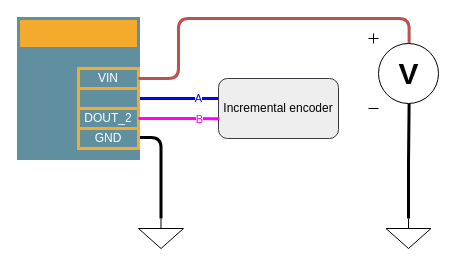
Some shapes in this 456 by 266 pixel diagram are drawn without their labels. The box of each missing label's shape, as (x1, y1, x2, y2) in pixels:
DOUT_1: (76, 86, 140, 110)
OI-Module: (16, 16, 140, 50)
